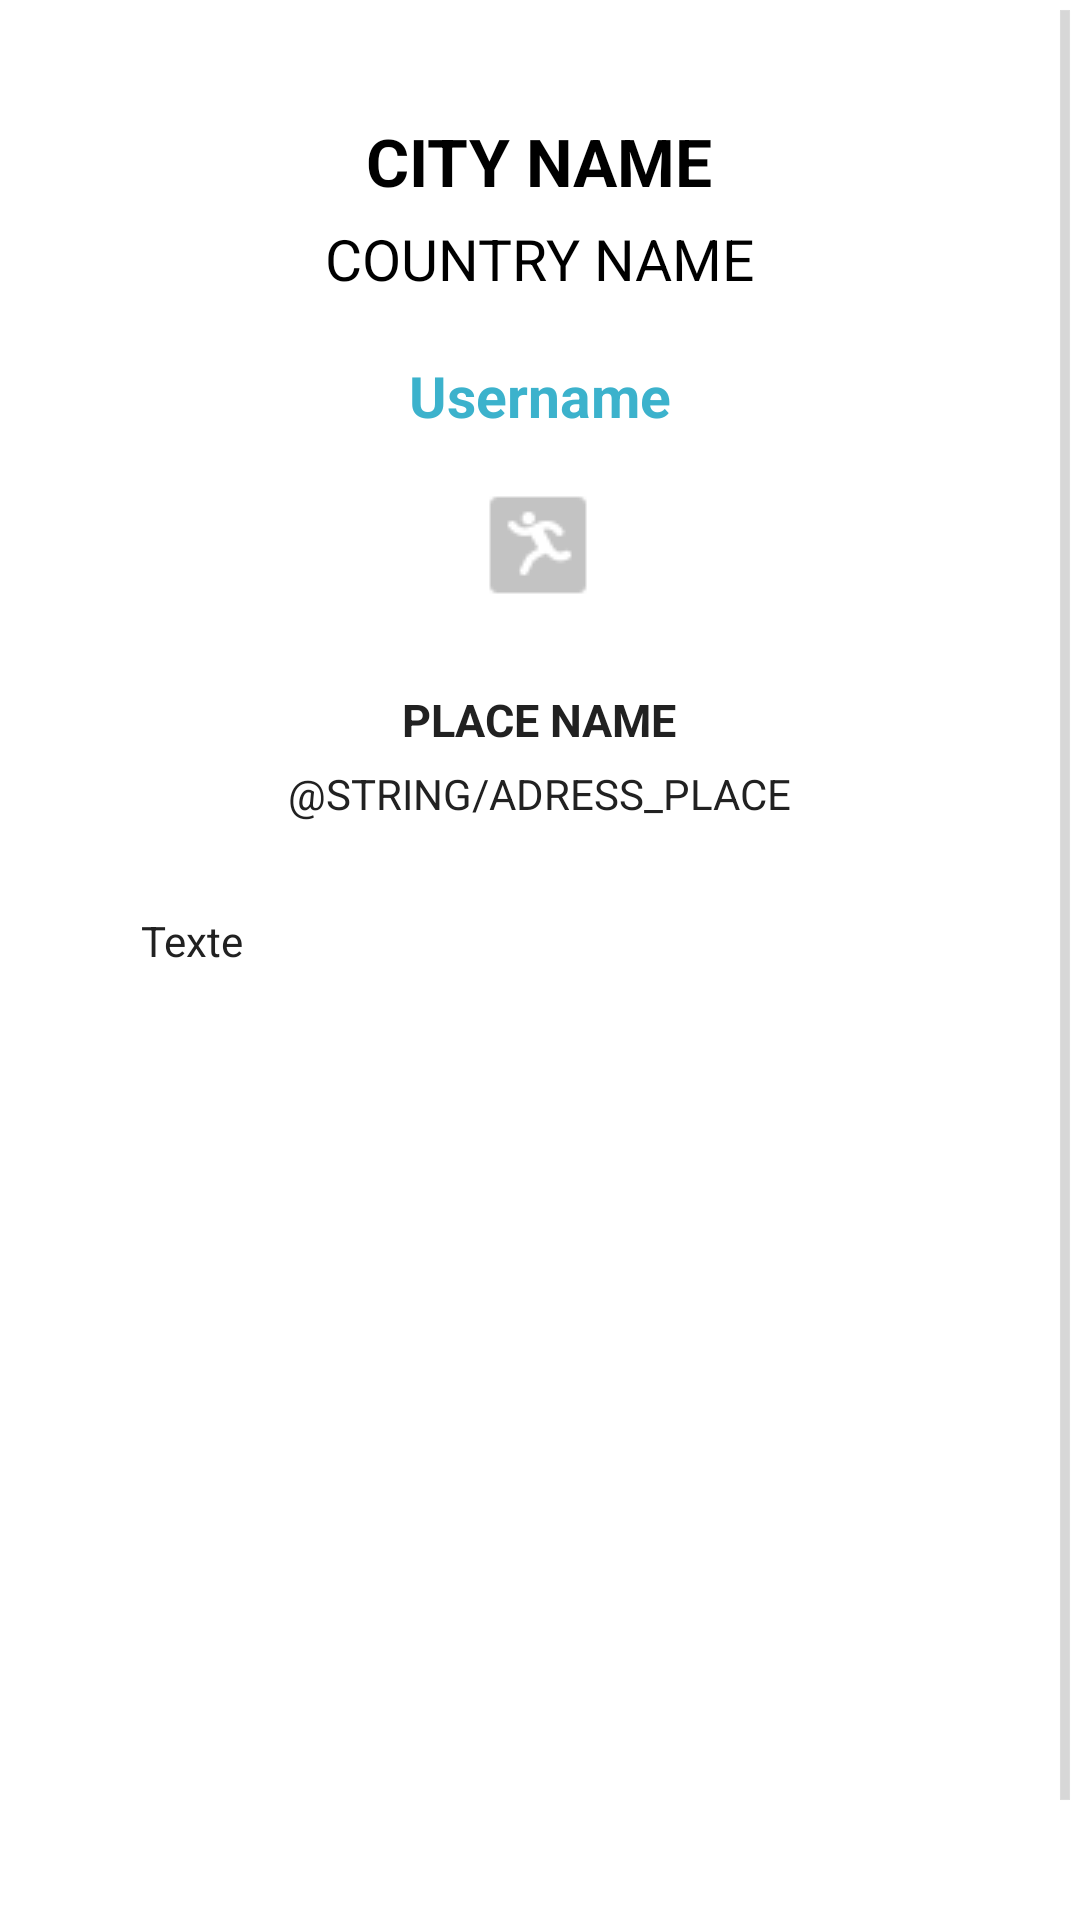

Named icons in this screenshot (1080w x 1920h) and their centers, (x=x, y=y):
activities: (x=538, y=545)
